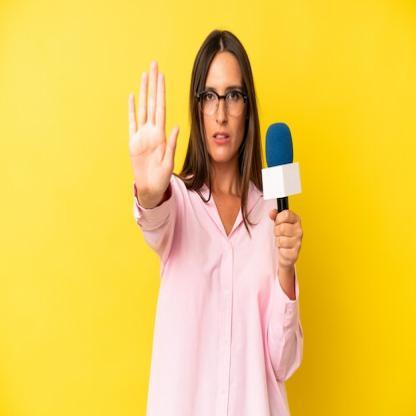stop: (127, 58, 183, 198)
